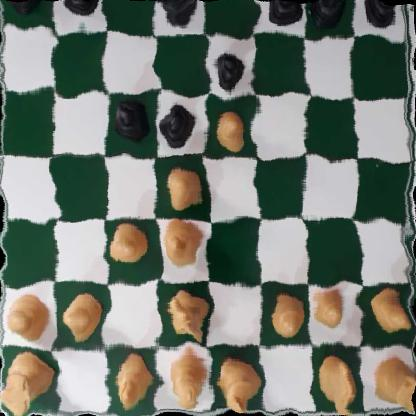black-knight: (156, 0, 197, 30)
black-pawn: (109, 94, 149, 141), (216, 47, 251, 90), (161, 103, 196, 144), (361, 0, 403, 29), (309, 0, 346, 28), (266, 0, 302, 28), (63, 0, 99, 23), (7, 0, 43, 15)
white-bishop: (161, 218, 205, 267), (113, 351, 149, 408)
white-king: (216, 350, 256, 416)
white-knight: (319, 354, 356, 416), (168, 287, 206, 346)
white-pawn: (370, 286, 414, 334), (3, 295, 48, 340), (64, 291, 106, 338), (162, 165, 203, 213), (109, 221, 150, 268), (310, 281, 350, 327), (212, 106, 250, 153), (268, 287, 305, 335)
white-queen: (167, 349, 208, 409)
white-rook: (0, 352, 52, 407), (369, 356, 416, 413)
